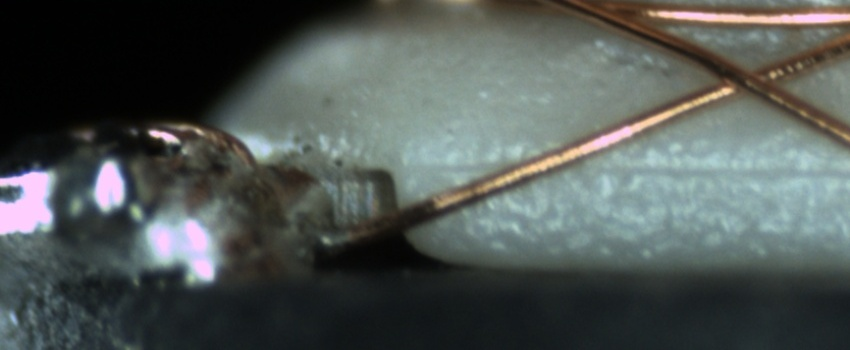CL: (684, 51, 804, 104)
DL: (419, 133, 850, 202)
TE: (115, 112, 268, 161)
